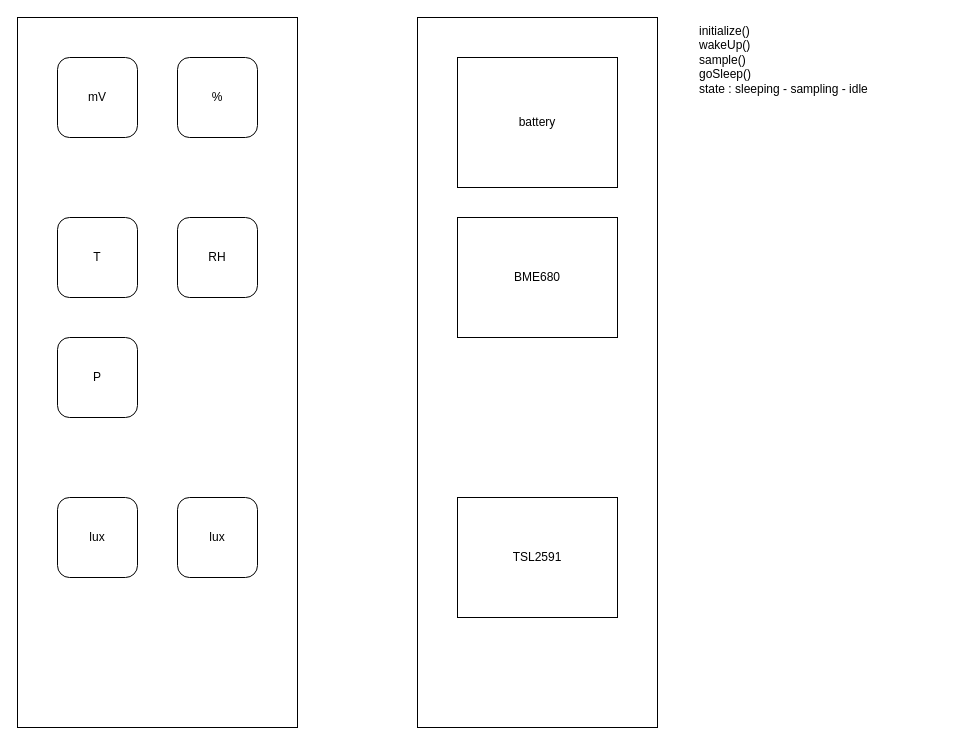
Image size: 955x745. Some labels were removed from this diagram. Here are the shapes that lost their labels. From the top down, the box of each, then its label:
(16, 16, 298, 728): sensorCollection
(416, 16, 658, 728): sensorDeviceCollection
